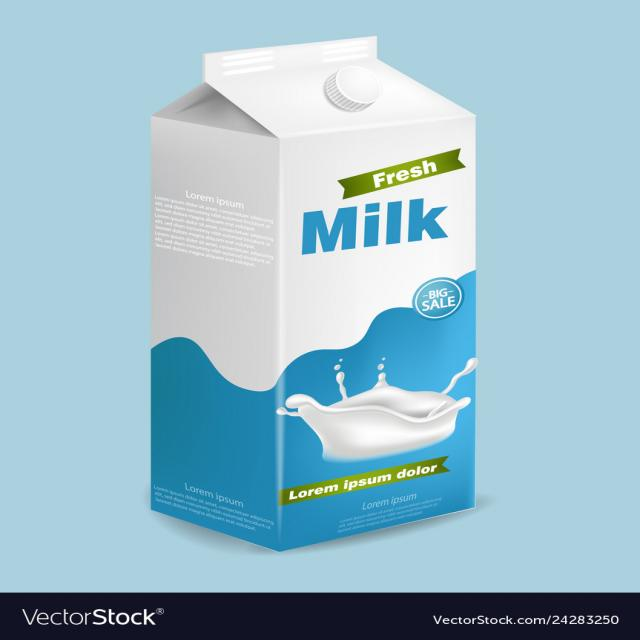non_white_jug: (146, 18, 494, 558)
